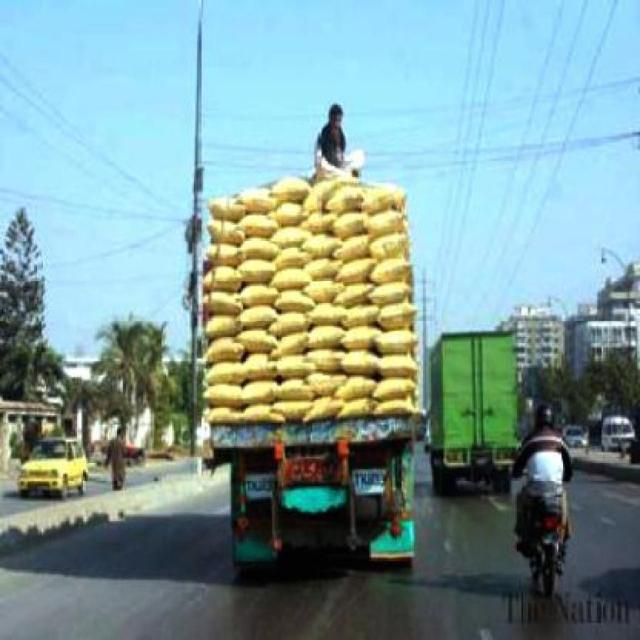normal_truck: (210, 413, 420, 568)
overloaded_truck: (204, 178, 419, 424)
